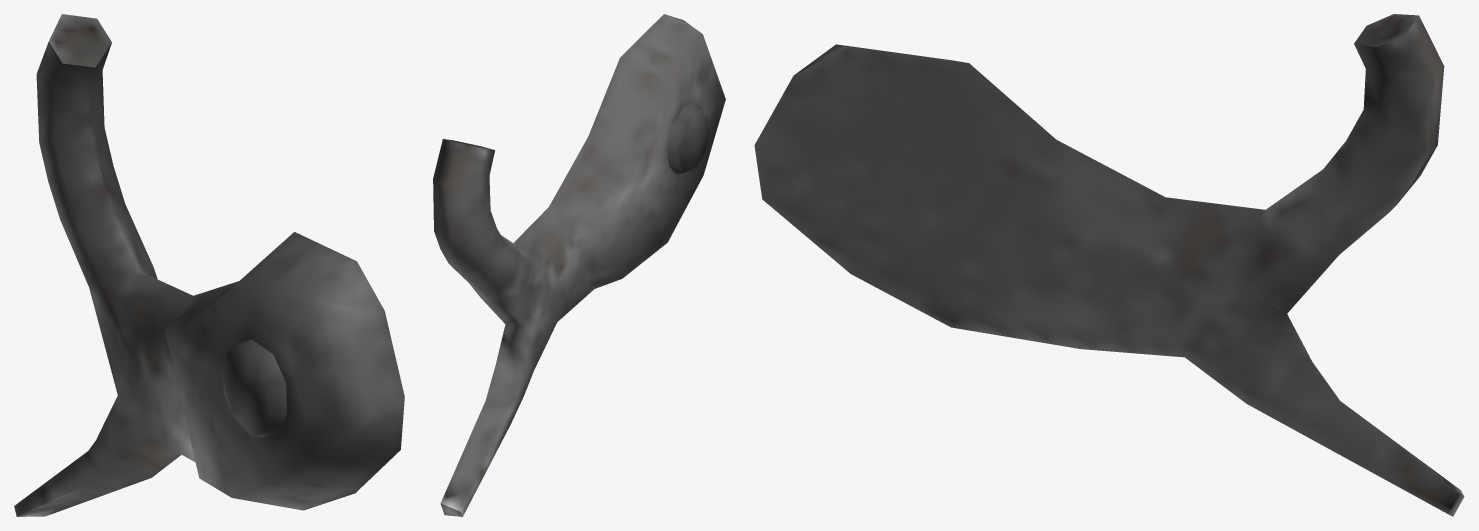
Rendered from 1875Gun_HammerUncooked.fbx.
3 views of the same model, side by side, from view 1: azimuth 30°, elevation 25°; view 2: azimuth 150°, elevation 25°; view 3: azimuth 270°, elevation 25° (orthographic). The views are drawn at different scales.
Visible parts, largest first — view 1: Hammer; view 2: Hammer; view 3: Hammer.
Part boxes in pixels (x1,y1,x2,y2): Hammer: [14, 14, 404, 516]; Hammer: [433, 14, 725, 516]; Hammer: [754, 14, 1464, 516].
Bounding box in the file's own units: 0.00616 × 0.0293 × 0.0376.
